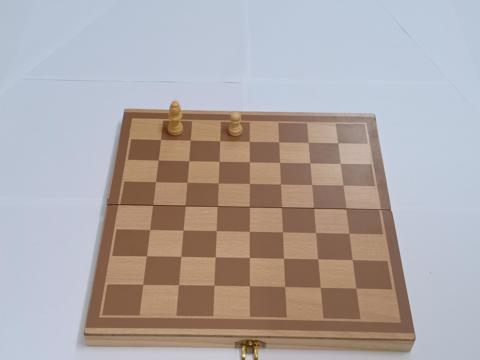xcorner: (185, 137, 195, 147), (154, 157, 163, 167), (145, 226, 154, 236), (142, 252, 151, 262), (214, 158, 223, 168), (209, 281, 218, 291), (244, 138, 253, 148), (244, 204, 254, 213), (244, 228, 254, 237), (275, 159, 284, 169), (313, 255, 322, 265), (315, 283, 325, 292), (335, 160, 345, 169), (347, 256, 357, 265), (156, 137, 165, 146), (151, 179, 160, 188), (148, 202, 157, 211), (139, 280, 148, 289), (184, 158, 193, 167), (182, 180, 191, 189), (180, 203, 189, 212), (178, 227, 187, 236), (176, 253, 185, 262), (174, 281, 183, 290), (215, 138, 224, 147), (213, 180, 222, 189), (212, 203, 221, 212), (211, 228, 220, 237), (210, 254, 219, 263), (244, 159, 253, 168), (244, 181, 253, 190), (245, 254, 254, 263), (245, 282, 254, 291), (274, 139, 283, 148), (276, 181, 285, 190), (277, 204, 286, 213), (278, 229, 287, 238), (279, 255, 288, 264), (280, 283, 289, 292), (303, 139, 312, 148), (305, 160, 314, 169), (307, 182, 316, 191), (309, 205, 318, 214), (311, 229, 320, 238), (333, 140, 342, 149), (338, 182, 347, 191), (341, 205, 350, 214), (344, 230, 353, 239), (351, 284, 360, 293)
